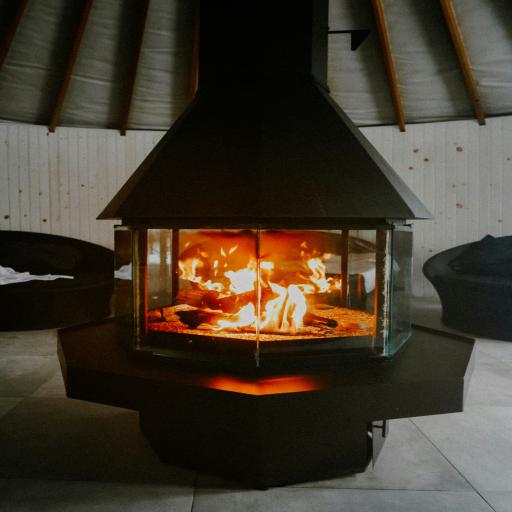campfire: (72, 167, 444, 389)
